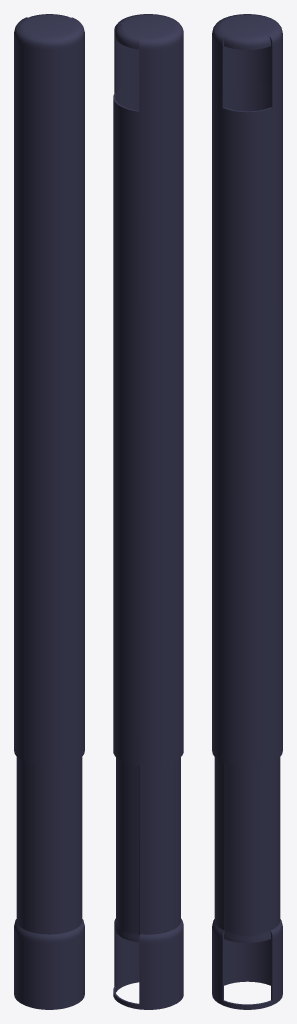
The model's file is ChasmV3.fbx.
3 views of the same model, side by side, from view 1: azimuth 90°, elevation 25°; view 2: azimuth 210°, elevation 25°; view 3: azimuth 270°, elevation 25° (orthographic).
Parts seen in each view (by area): view 1: Elevator Chasm; view 2: Elevator Chasm; view 3: Elevator Chasm.
Boxes of the visible parts, x1=… form: Elevator Chasm: x1=14, y1=14, x2=84, y2=1009; Elevator Chasm: x1=113, y1=14, x2=183, y2=1009; Elevator Chasm: x1=212, y1=14, x2=282, y2=1009.
Size of the model in its own units: 16.49 by 249 by 16.49.
